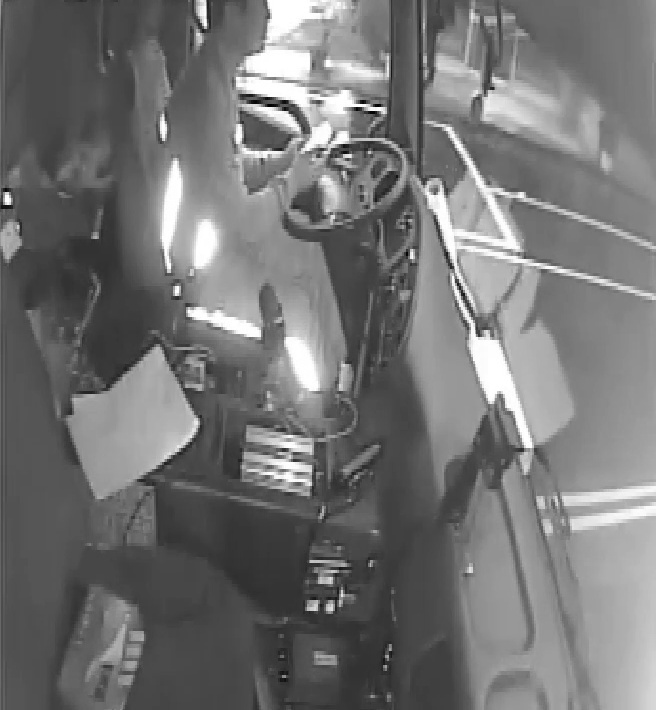cellphone: (293, 120, 341, 172)
